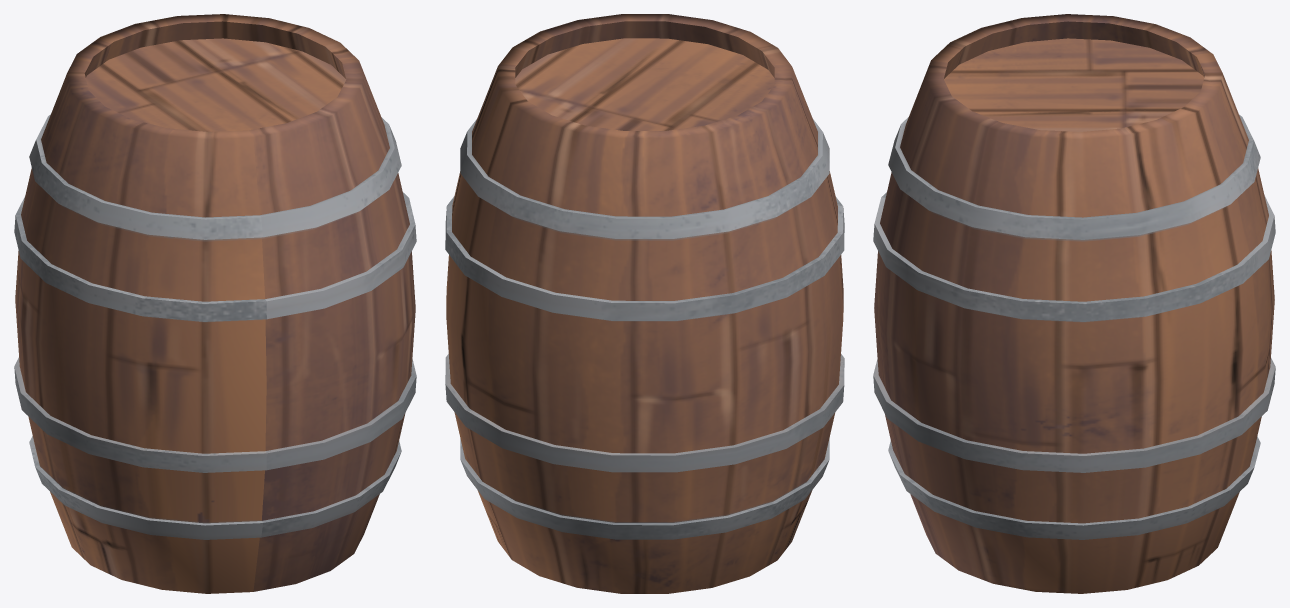
File: Cask.fbx
The picture shows the model from 3 angles, left to right: view 1: azimuth 30°, elevation 25°; view 2: azimuth 150°, elevation 25°; view 3: azimuth 270°, elevation 25°; orthographic projection.
Visible parts, largest first — view 1: Cask; view 2: Cask; view 3: Cask.
Part boxes in pixels (box(x1,y1,x2,y2)): Cask: box(14, 14, 416, 593); Cask: box(445, 14, 844, 593); Cask: box(873, 14, 1275, 593).
Size of the model in its own units: 7.35 by 9.15 by 7.35.
